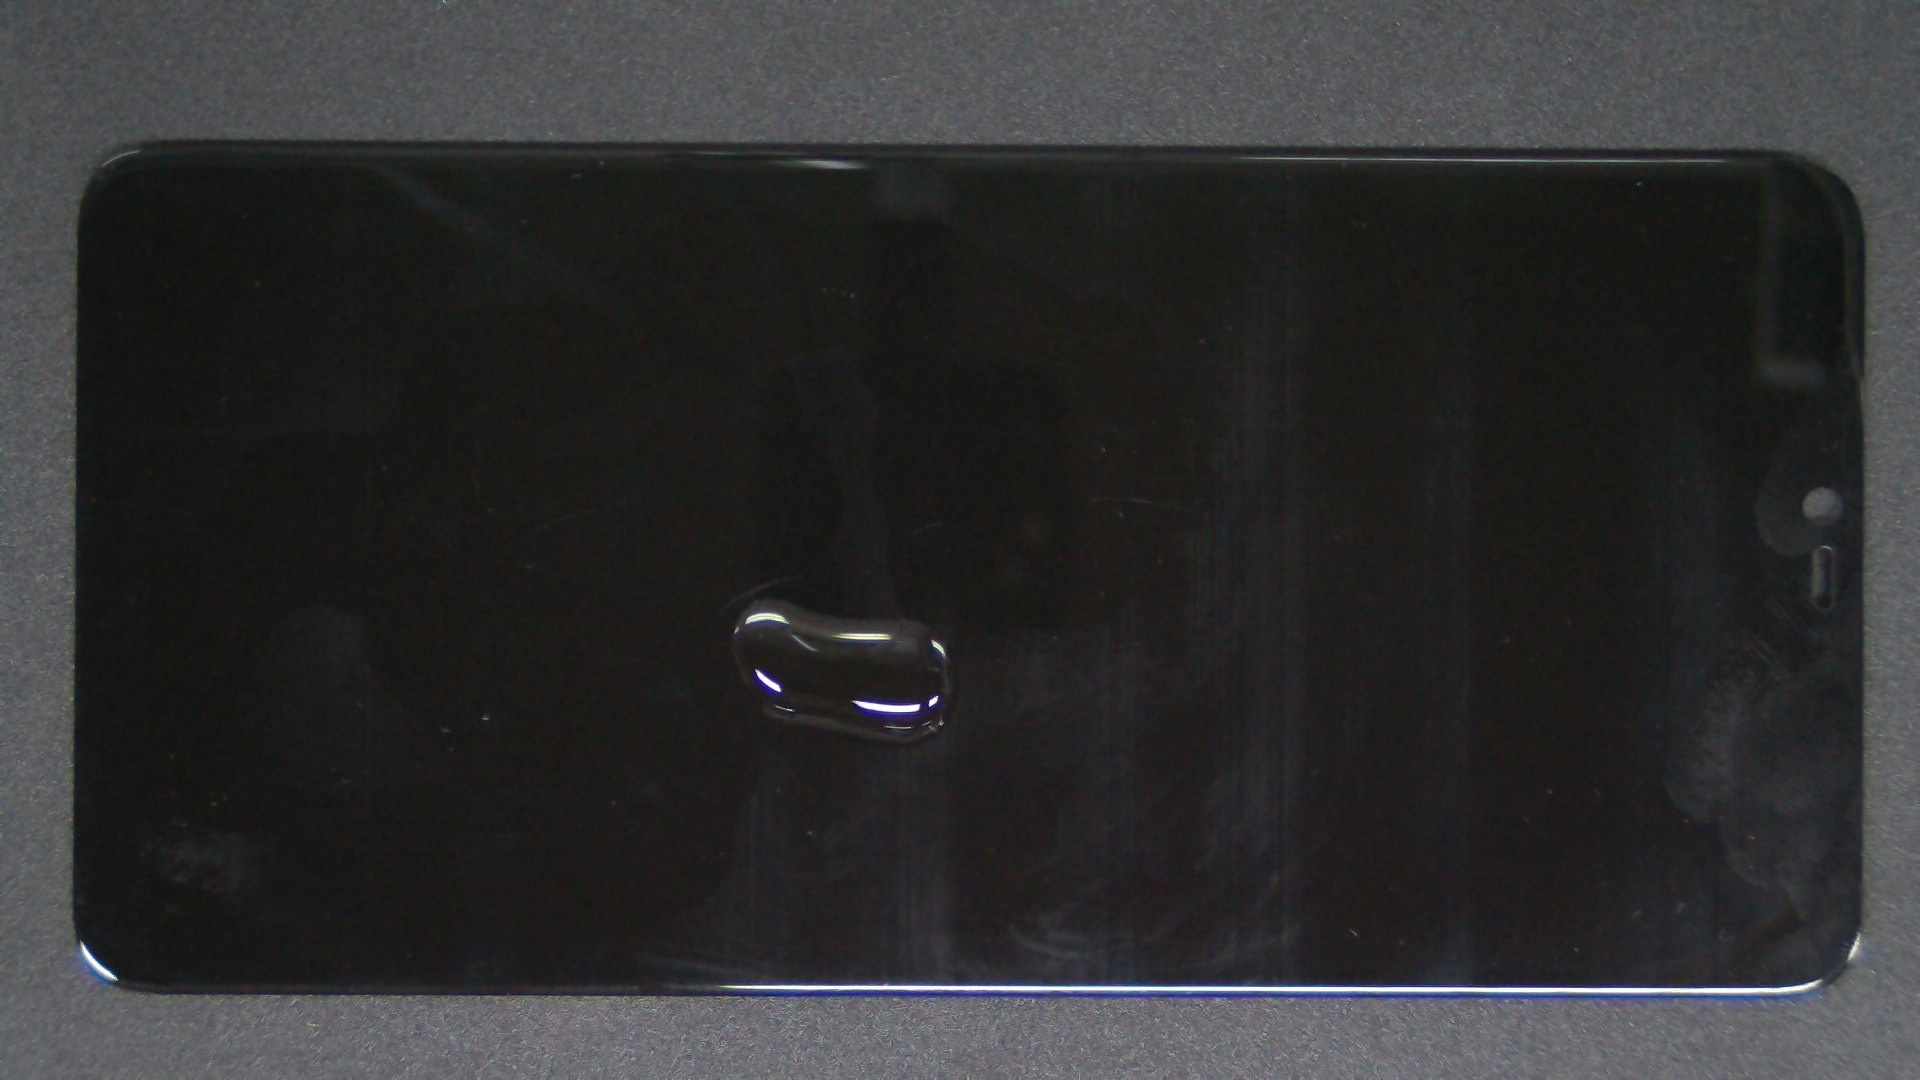oil: (382, 298, 1145, 894)
